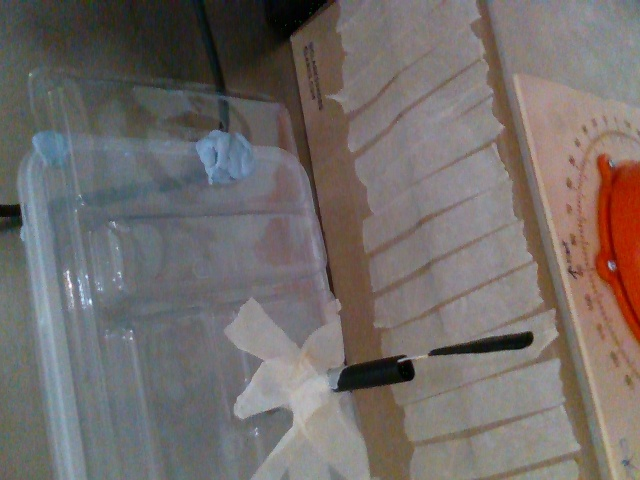test_strip: (393, 332, 531, 362)
